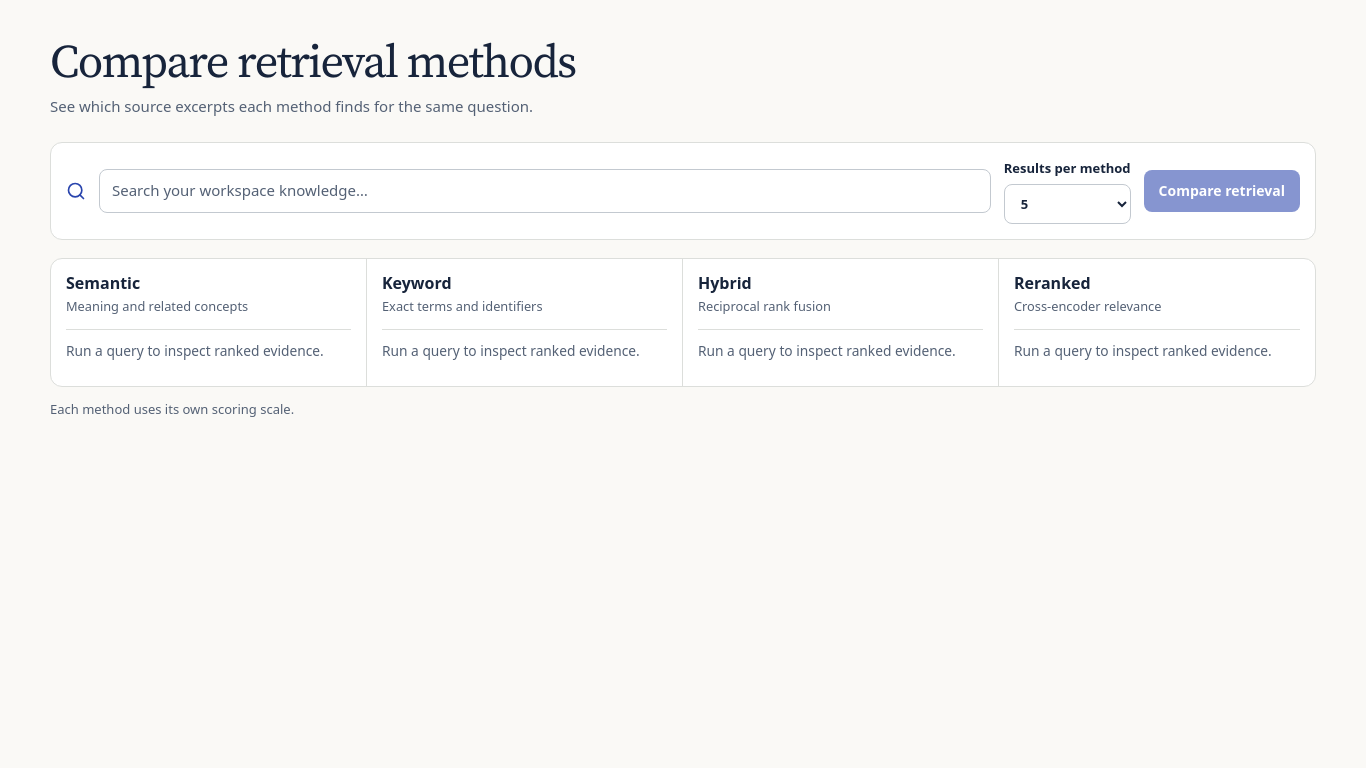
shows completed methods and leaves unstarted methods alone after cancellation
Type "annual leave" into the field named "Search query" at (545, 191), box [99,169,991,213]
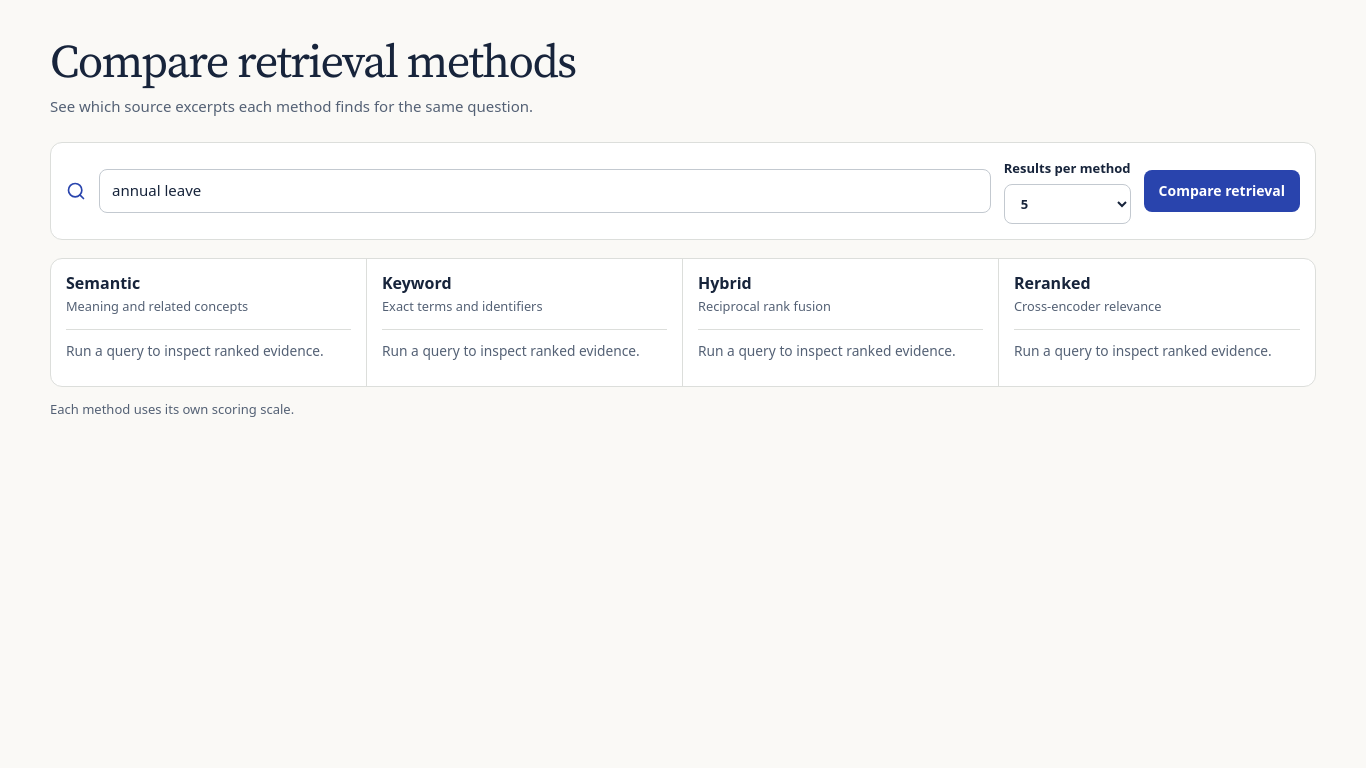
Click the button "Compare retrieval" at (1222, 191), box [1144,170,1300,212]
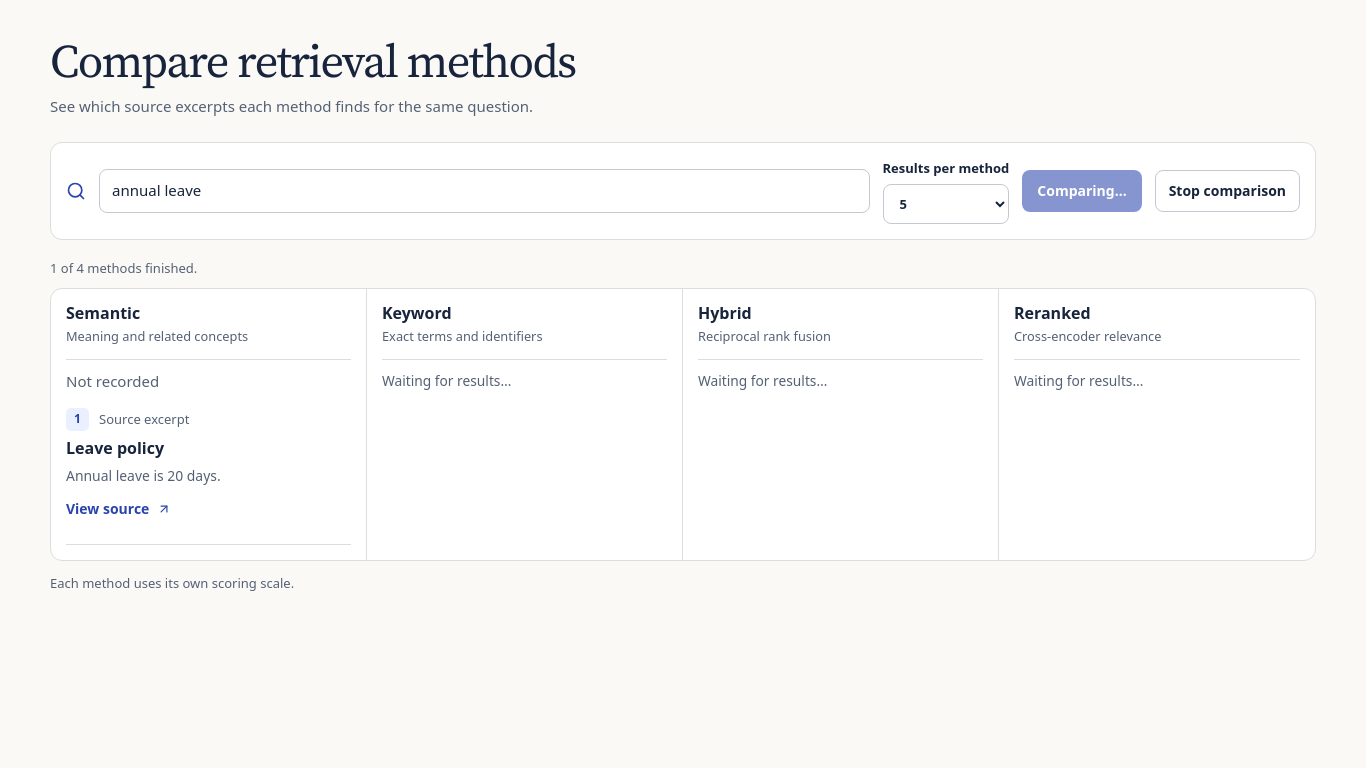
Now the text "Annual leave is 20 days." is shown, box [66,466,221,485]
Now the message reads "1 of 4 methods finished.", box [50,259,197,277]
Click the button "Stop comparison" at (1227, 191), box [1155,170,1300,212]
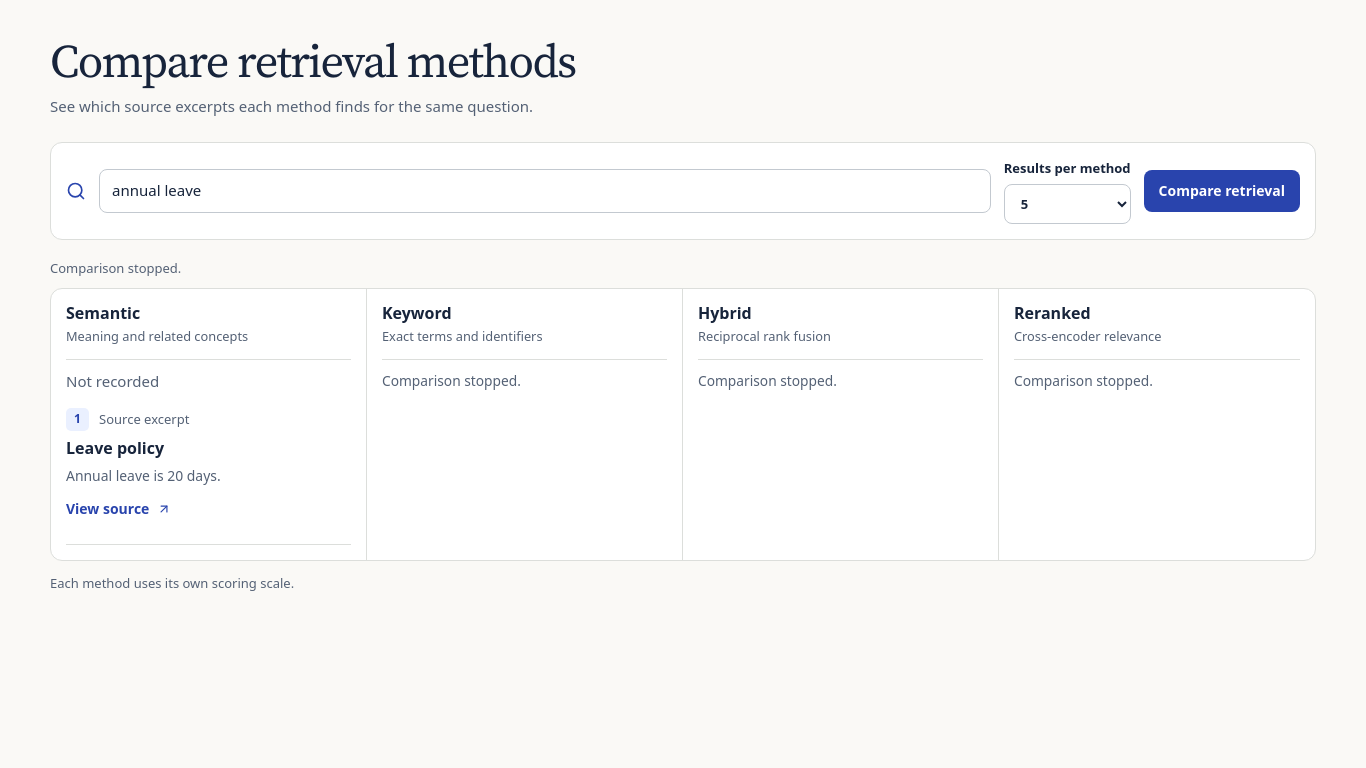
Now the text "Annual leave is 20 days." is shown, box [66,466,221,485]
Now the button "Compare retrieval" is enabled, box [1144,170,1300,212]
Now the message reads "Comparison stopped.", box [50,259,181,277]
